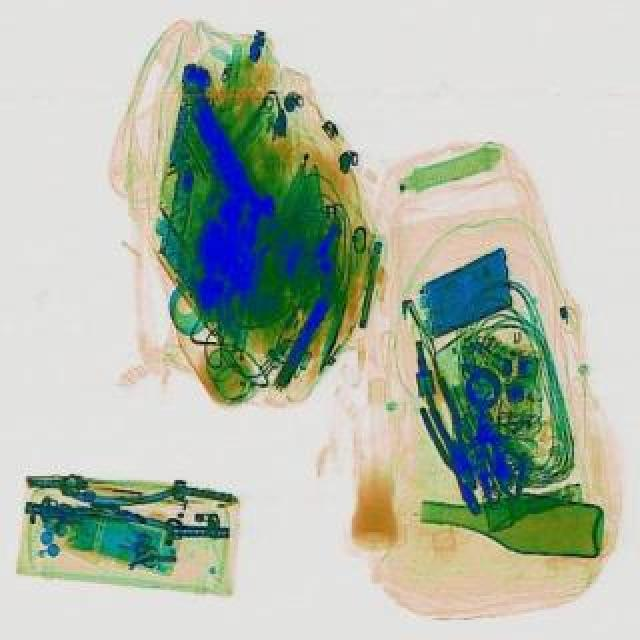wrench: (418, 370, 486, 490)
